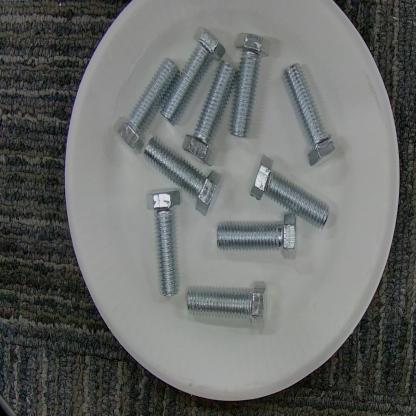FOD: (110, 32, 346, 328)
